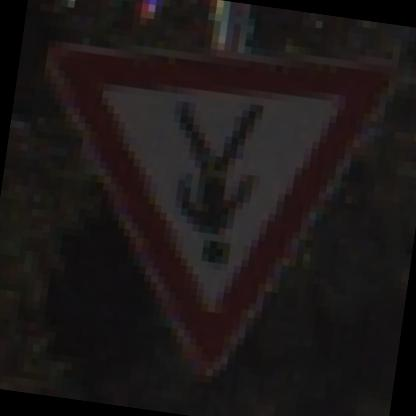crosswalk: (4, 14, 394, 394)
